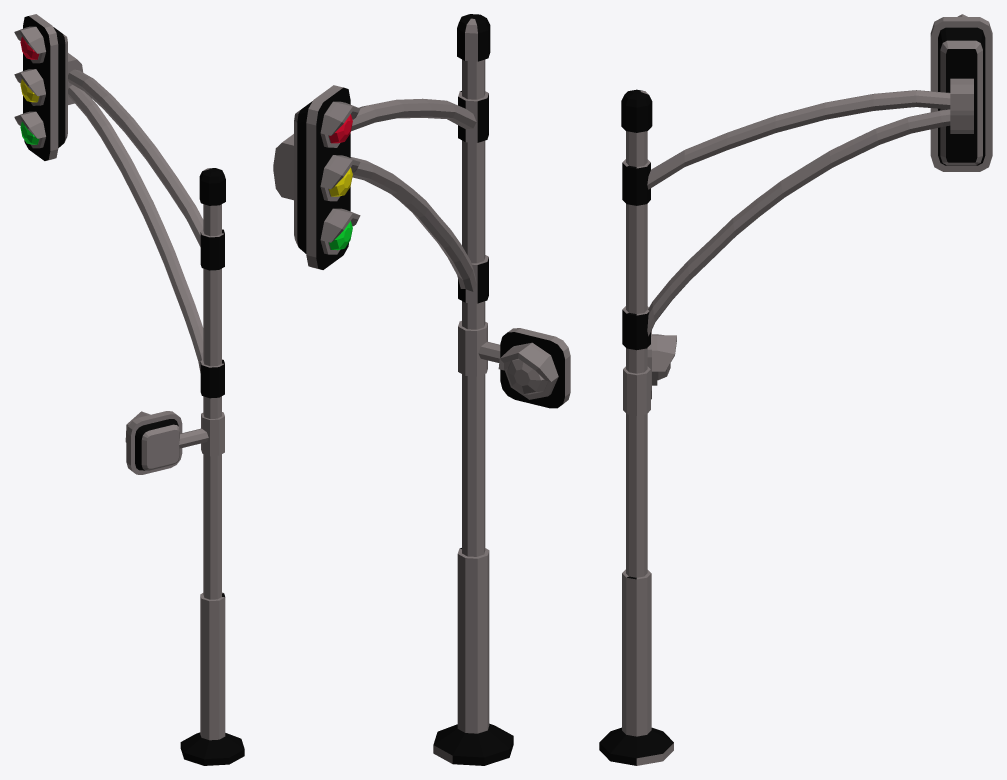
The model's file is Lampu Merah Fix.1.fbx.
3 views of the same model, side by side, from view 1: azimuth 30°, elevation 25°; view 2: azimuth 150°, elevation 25°; view 3: azimuth 270°, elevation 25° (orthographic). The views are drawn at different scales.
Parts seen in each view (by area): view 1: Traffic_Light1; view 2: Traffic_Light1; view 3: Traffic_Light1.
Boxes of the visible parts, bbox=[...] form: Traffic_Light1: bbox=[14, 14, 244, 765]; Traffic_Light1: bbox=[273, 14, 570, 765]; Traffic_Light1: bbox=[599, 14, 992, 765].
Bounding box in the file's own units: 64.9 × 363 × 181.
